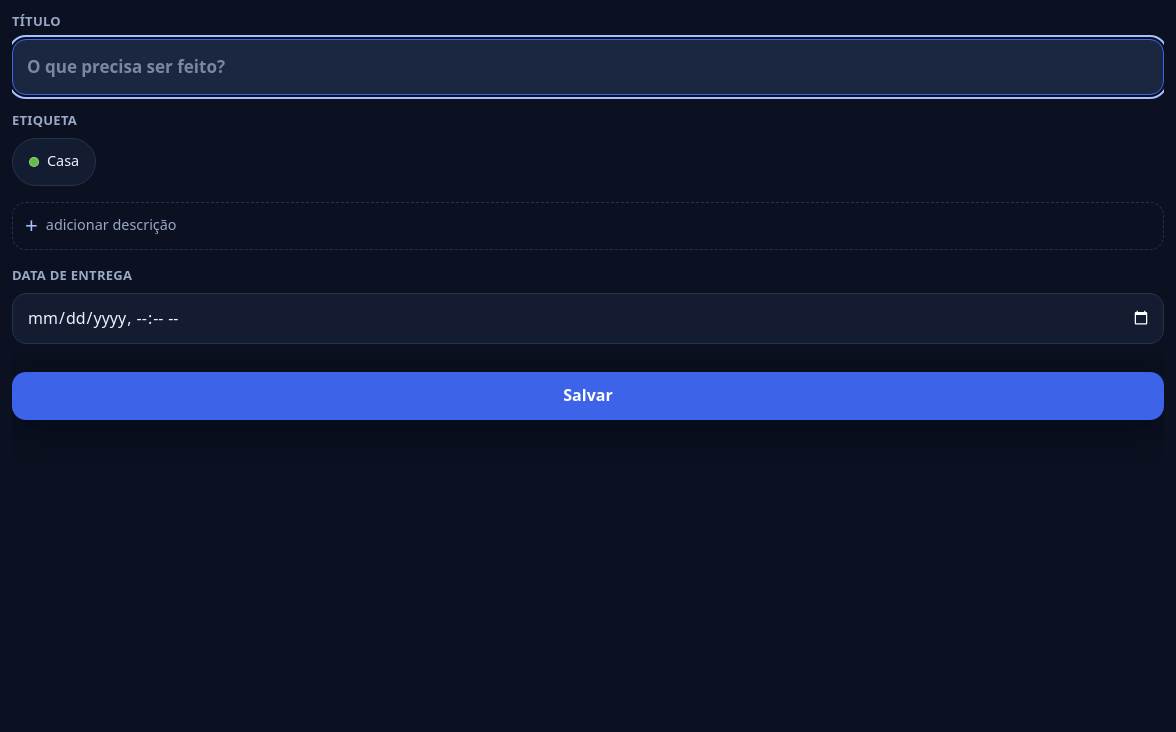
CardForm › descrição: voltar, limpar e resumo › keeps the shortcut when there is no text (FR-005)
Click the button "+ adicionar descrição" at (111, 225), box [12,202,1164,250]
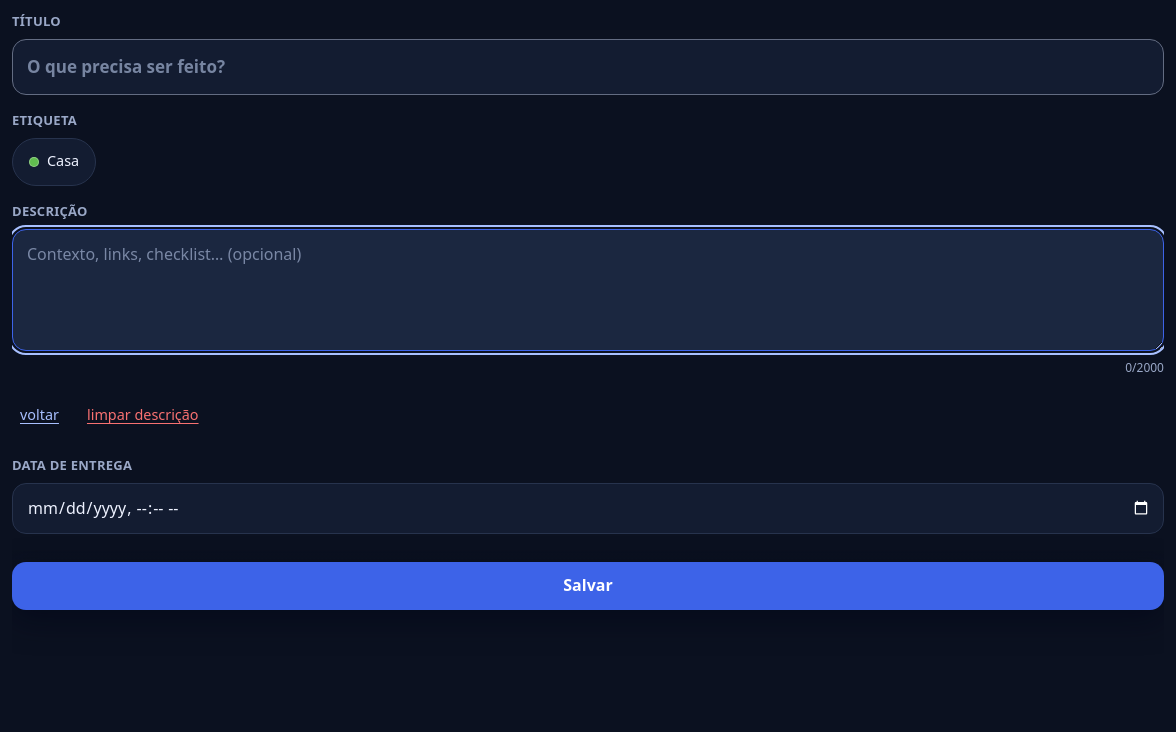
Click the button "voltar" at (40, 416), box [12,392,67,440]
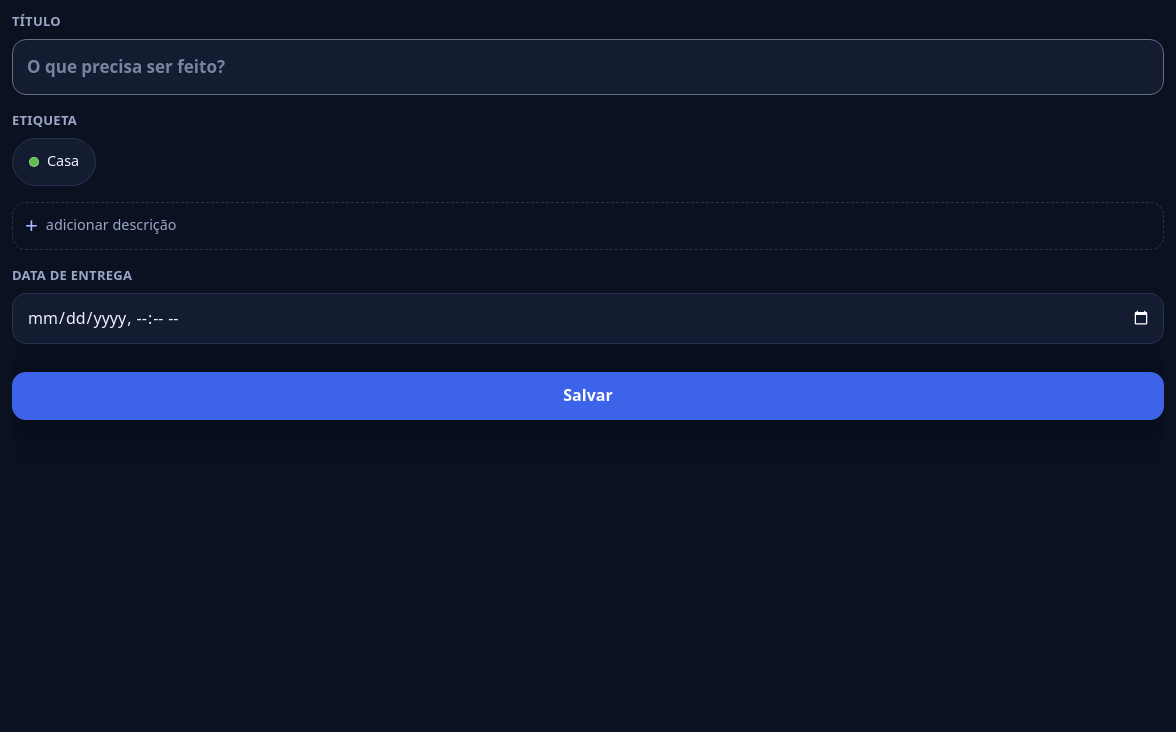
Expected: the button "+ adicionar descrição" is shown, [12,202,1164,250]
